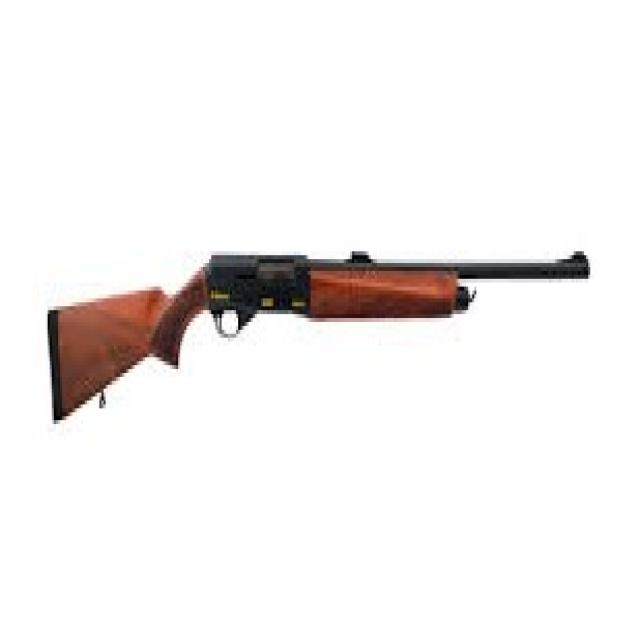rifle: (38, 239, 600, 433)
